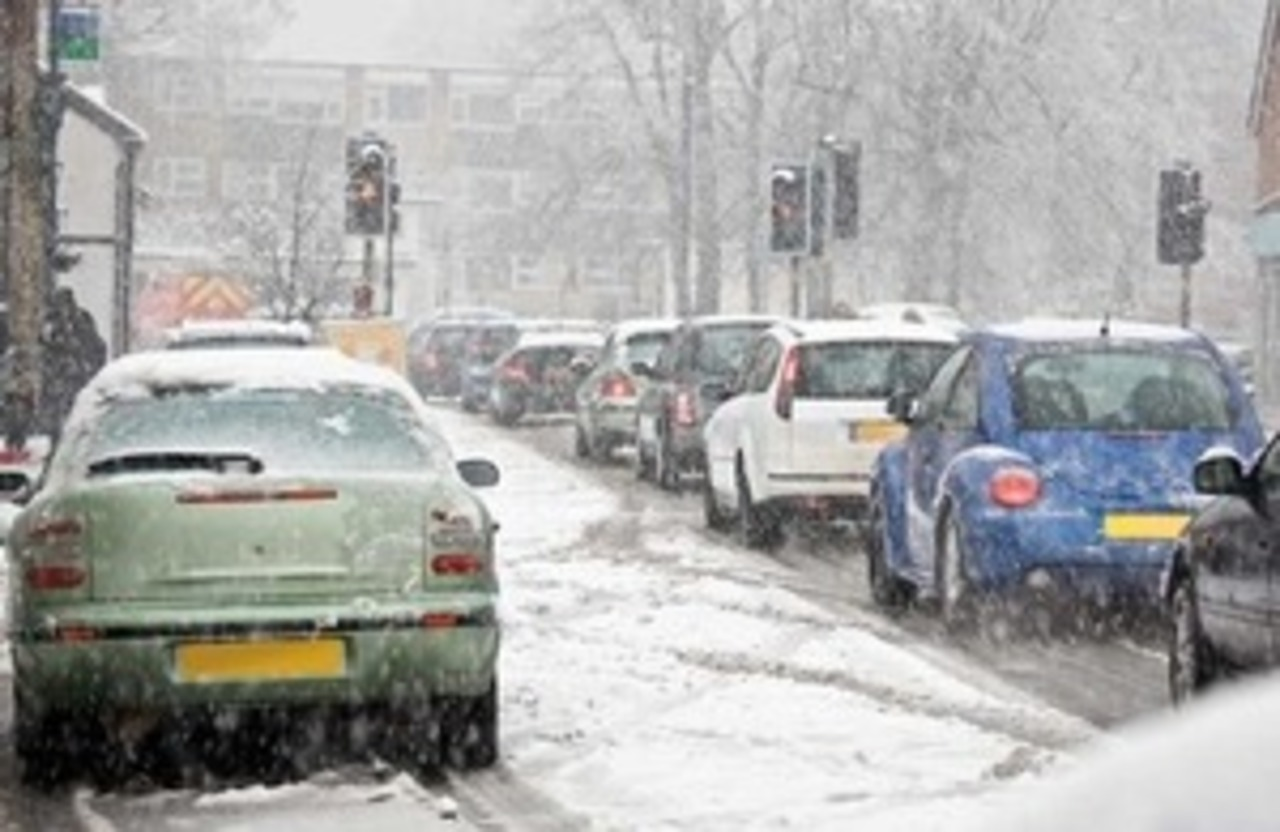car: (6, 328, 512, 803), (861, 309, 1275, 619), (693, 314, 969, 547), (1184, 388, 1276, 720), (636, 317, 792, 494), (568, 317, 691, 462), (494, 330, 601, 422), (456, 325, 508, 407), (411, 317, 463, 393)
